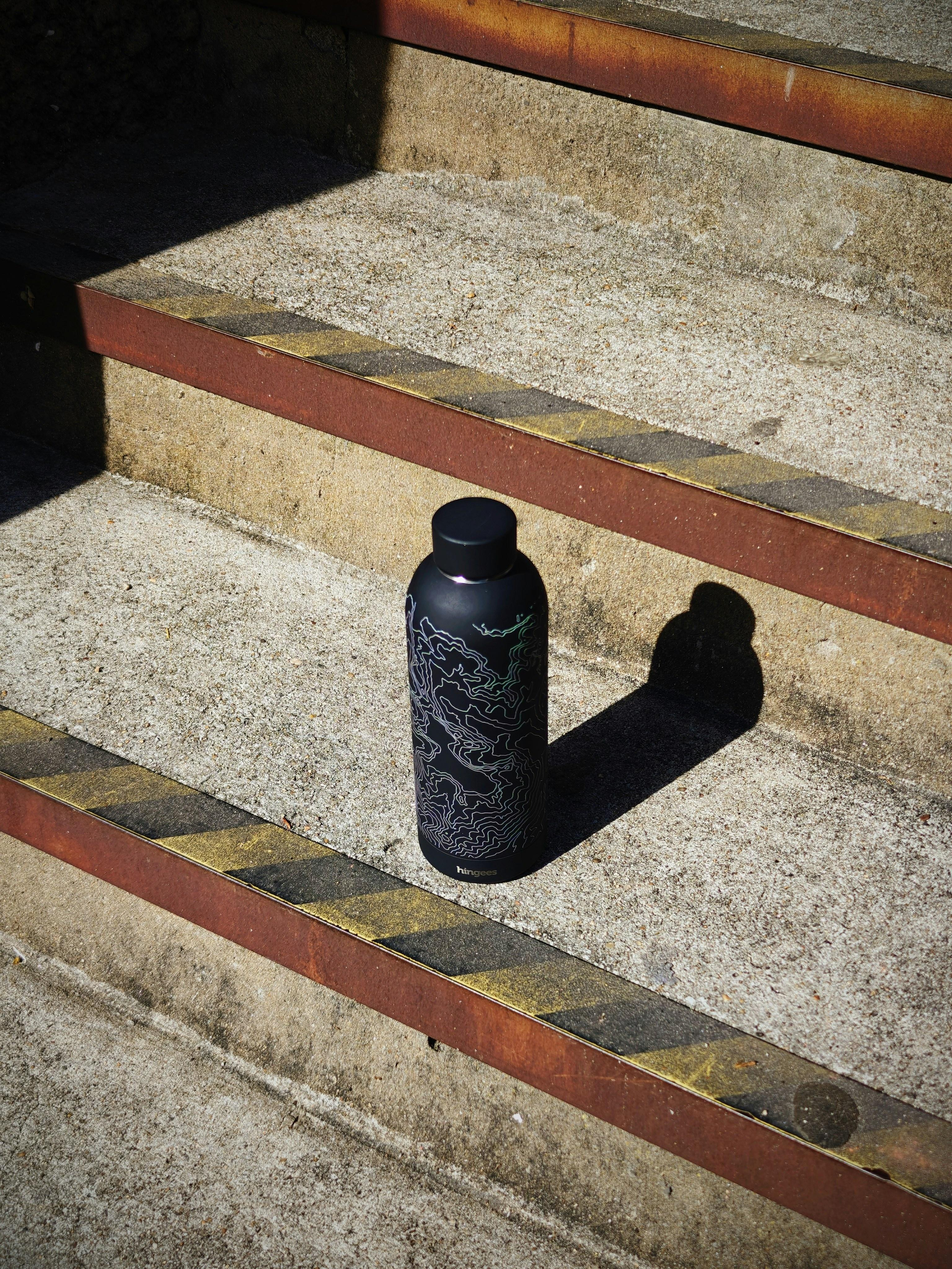Bottle-Detection: (353, 446, 623, 926)
